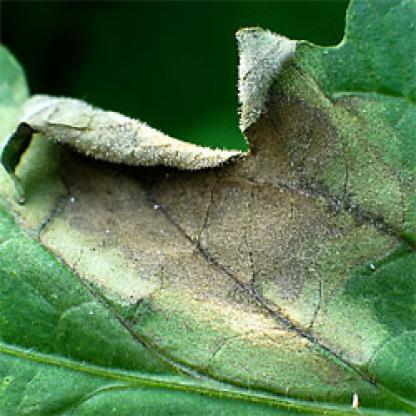Tomato leaf mosaic virus: (7, 25, 414, 414)
